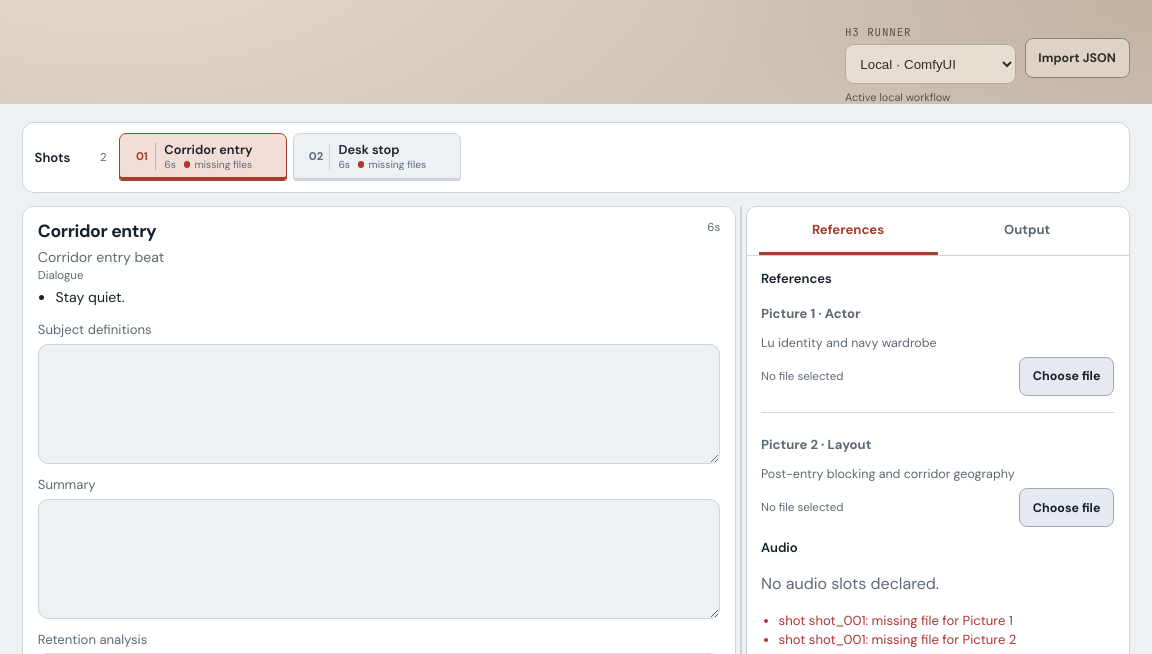
JsonProductionPage three-column workspace › ignores older storyboard revisions and versions current generations only
The width and height of the screenshot is (1152, 654).
Click the button with aria-label "shot_002" at (377, 157), box [293,133,461,181]
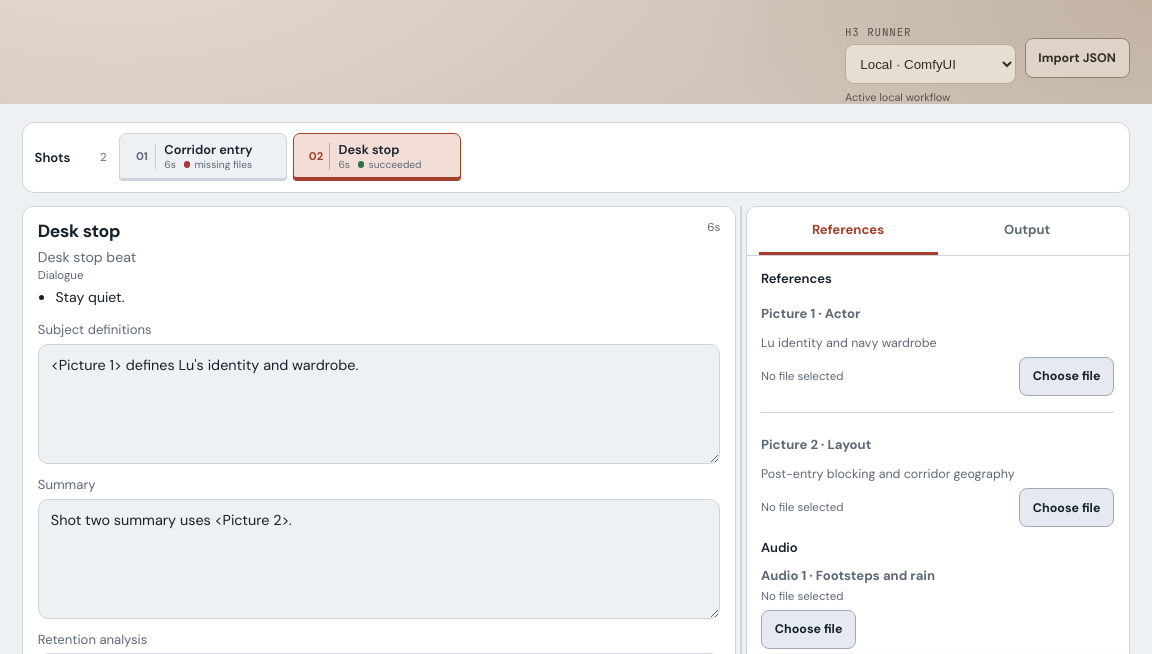
Click the button "Output" at (1027, 231), box [938,207,1117,255]
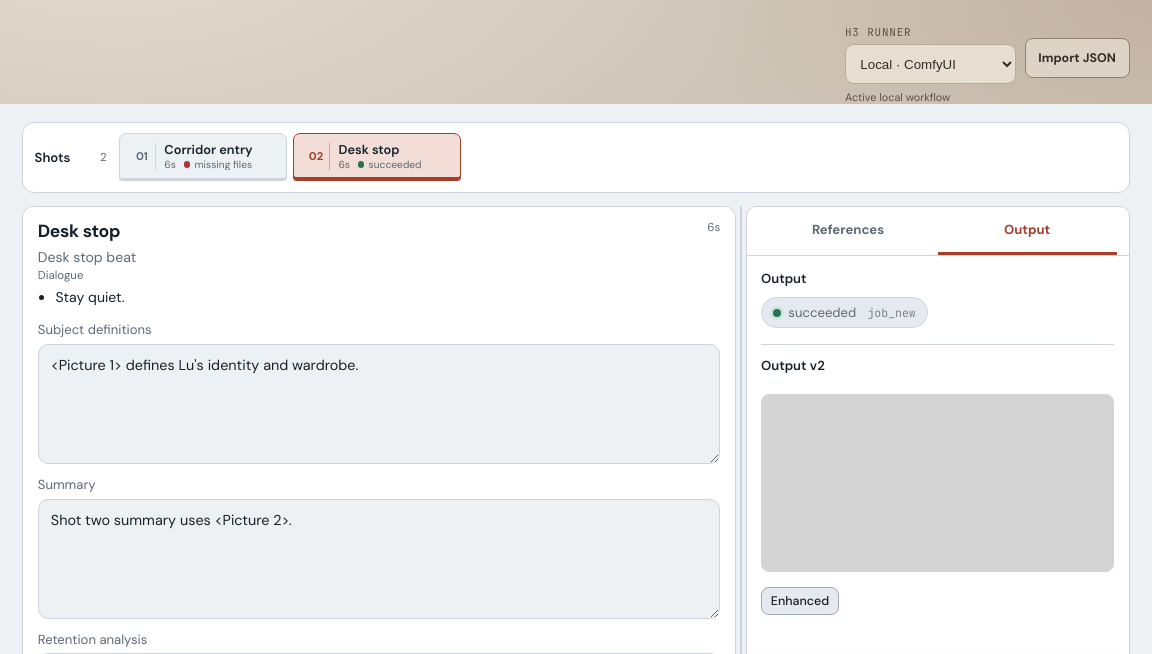
expect the heading "Output v2" is shown: met, box [761,357,825,374]
